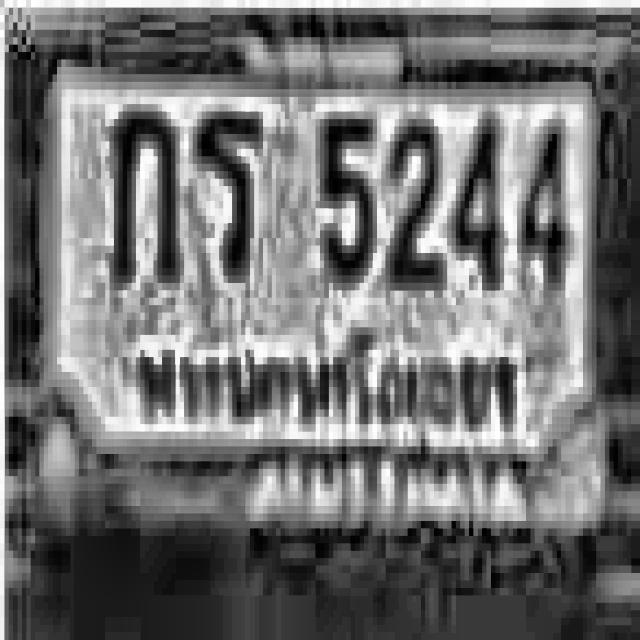license-plate: (21, 27, 616, 558)
